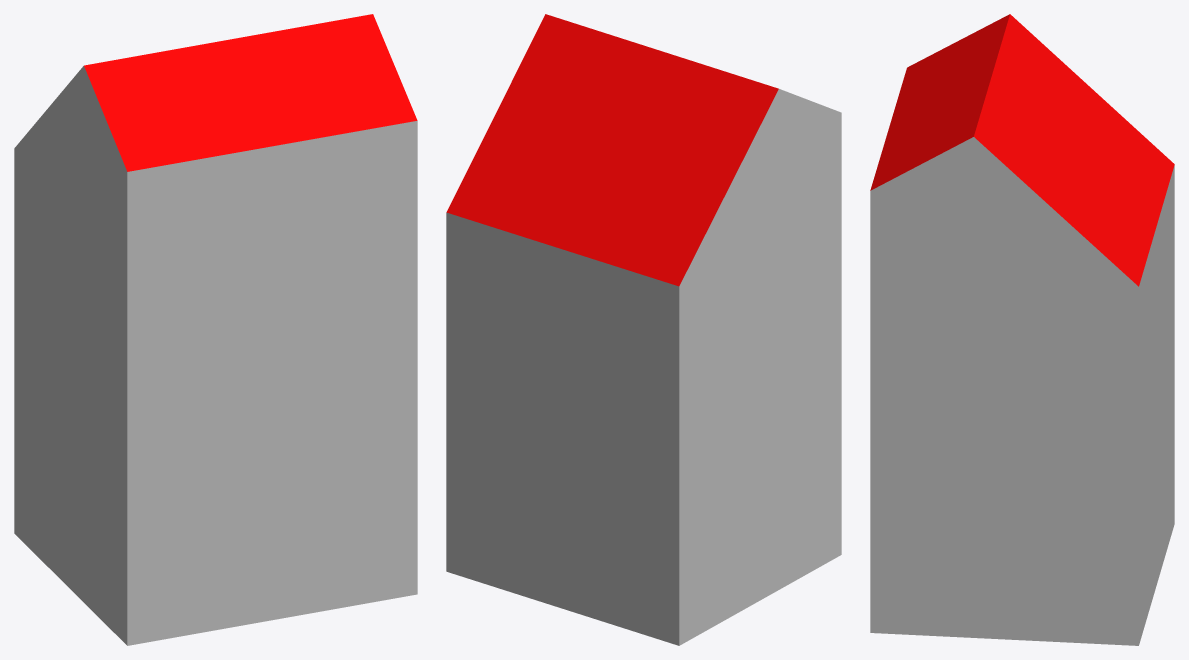
The picture shows the model from 3 angles, left to right: view 1: azimuth 30°, elevation 25°; view 2: azimuth 150°, elevation 25°; view 3: azimuth 270°, elevation 25°; orthographic projection. The views are drawn at different scales.
Size of the model in its own units: 3.3 by 5.67 by 3.12.
